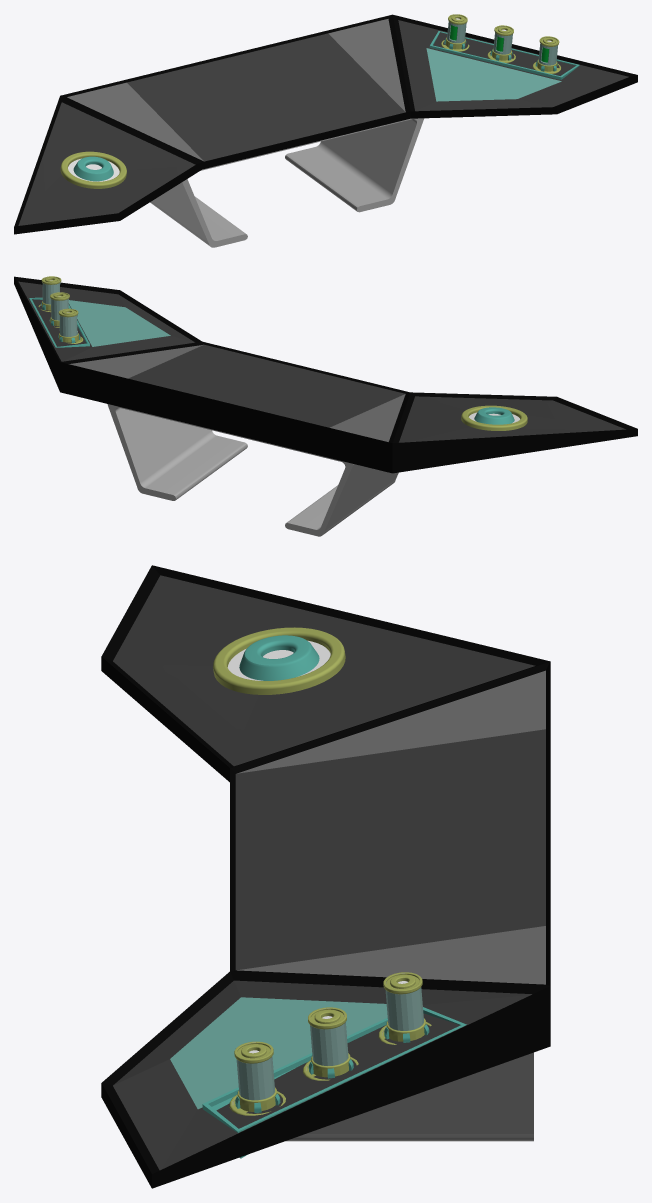
File: Control Panel.fbx
The picture shows the model from 3 angles, top to bottom: view 1: azimuth 30°, elevation 25°; view 2: azimuth 150°, elevation 25°; view 3: azimuth 270°, elevation 25°; orthographic projection. The views are drawn at different scales.
Visible parts, largest first — view 1: ControlPanel, Foot; view 2: ControlPanel, Foot; view 3: ControlPanel, Foot.
Part boxes in pixels (left/top/right/bottom): ControlPanel: left=14, top=14, right=637, bottom=234; Foot: left=150, top=118, right=424, bottom=247; ControlPanel: left=14, top=276, right=637, bottom=473; Foot: left=107, top=404, right=398, bottom=536; ControlPanel: left=101, top=565, right=550, bottom=1188; Foot: left=285, top=1052, right=533, bottom=1141.
Bounding box in the file's own units: 0.045 × 0.00914 × 0.014.
